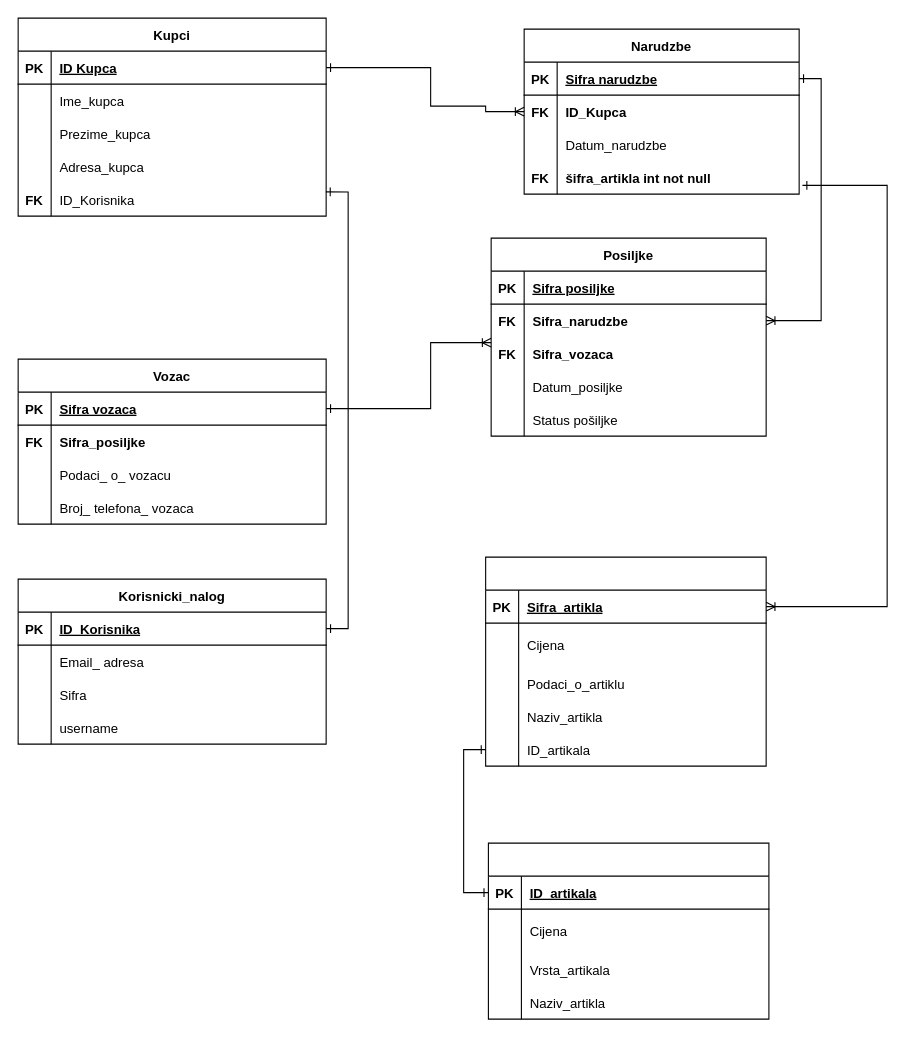
Some shapes in this 905 by 1037 pixel diagram are drawn without their labels. Each missing label, with the box of its shape:
Artikli: (485, 556, 766, 766)
Kategorija_artikala: (487, 842, 769, 1019)
